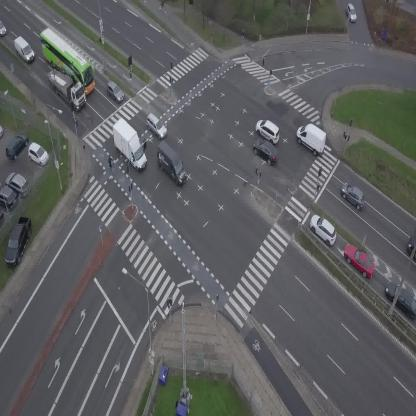bicycle: (106, 156, 115, 173)
bus: (30, 25, 104, 95)
car: (338, 239, 381, 282), (304, 210, 342, 248), (247, 133, 284, 169), (335, 178, 371, 212), (252, 116, 285, 145), (141, 112, 171, 141), (102, 79, 128, 105), (344, 3, 358, 23), (0, 20, 7, 36)
lorry: (102, 116, 158, 173), (38, 59, 93, 114), (147, 140, 195, 187), (291, 119, 333, 158), (9, 35, 39, 64), (408, 237, 416, 259)
